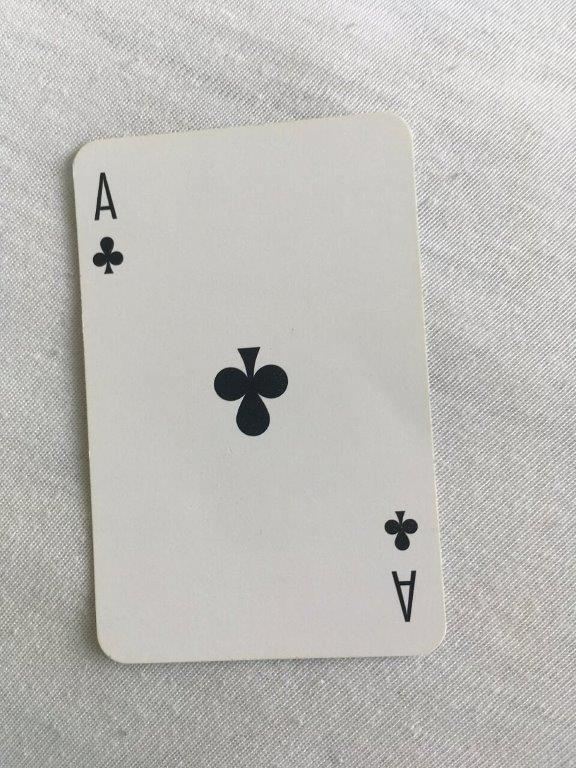AC: (68, 109, 450, 668)
